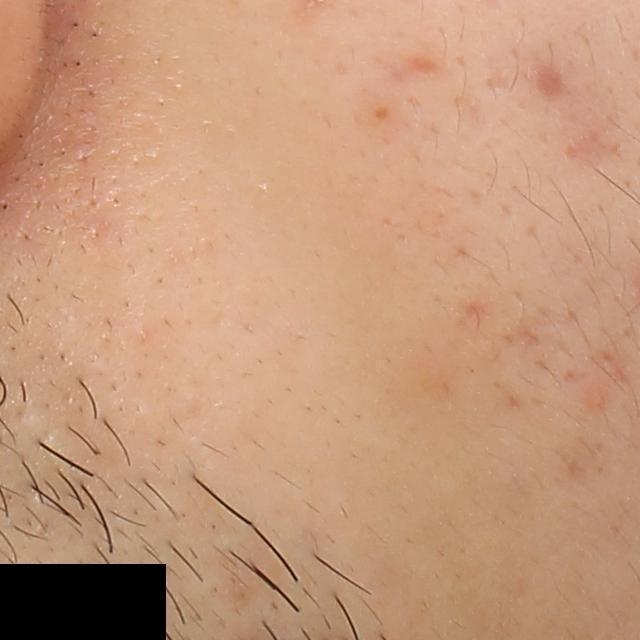atrophic_scar: (377, 54, 443, 104), (563, 128, 621, 163)
